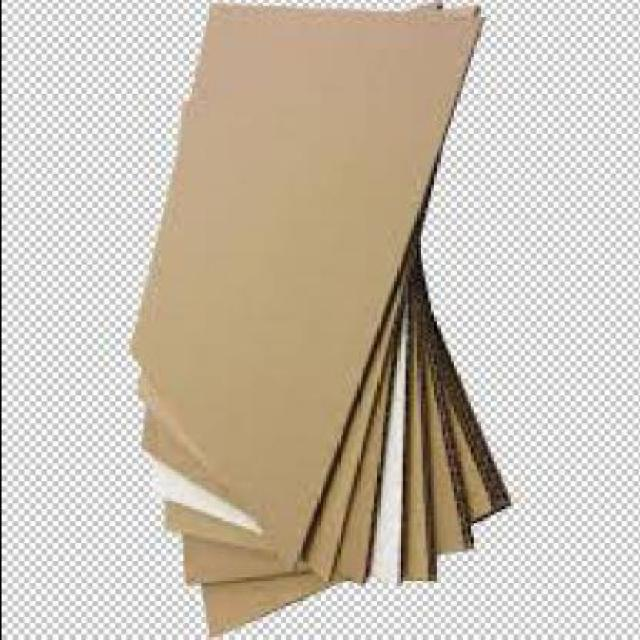CARDBOARD: (129, 3, 506, 639), (128, 8, 482, 574), (136, 3, 461, 583)
